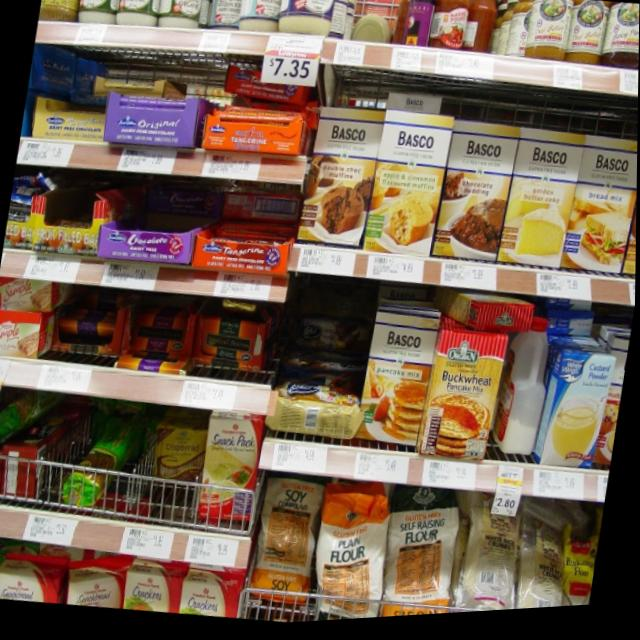q25: (420, 330, 506, 472)
